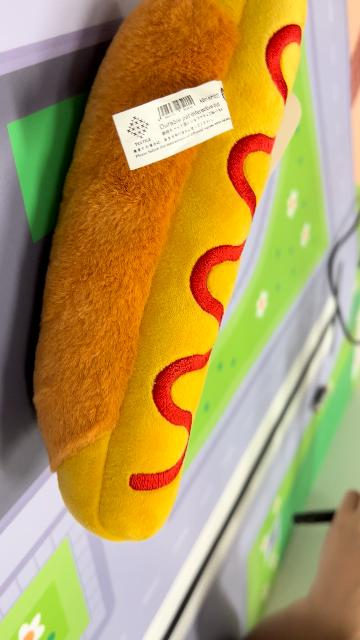hotdog: (31, 2, 308, 544)
